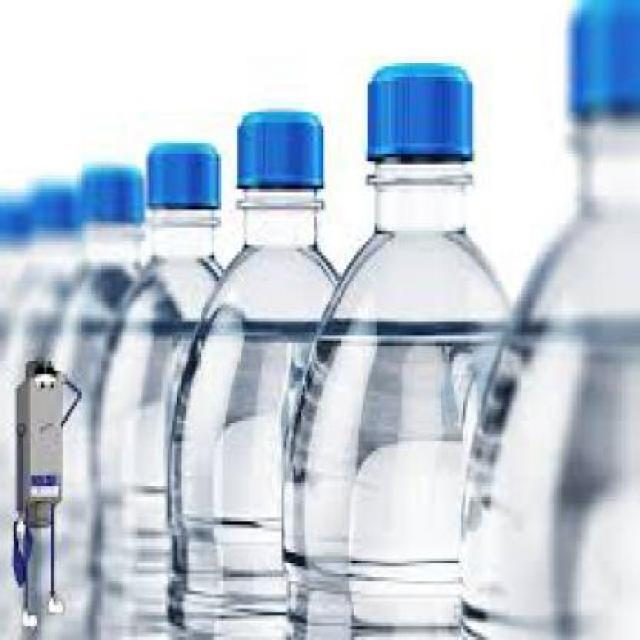PLASTIC: (281, 59, 517, 636), (459, 0, 638, 638), (167, 108, 342, 637), (93, 144, 225, 636), (47, 157, 147, 637), (12, 178, 79, 637), (368, 63, 475, 168), (570, 0, 638, 125), (238, 108, 324, 192), (149, 139, 222, 210), (79, 161, 144, 224), (31, 178, 77, 228)
